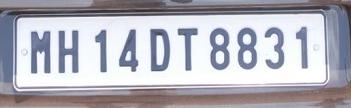1: (92, 26, 112, 73), (294, 25, 309, 68)
3: (261, 25, 284, 69)
4: (118, 27, 141, 72)
8: (234, 25, 259, 70), (207, 26, 230, 68)
D: (147, 27, 172, 72)
H: (56, 29, 82, 73)
M: (26, 29, 53, 73)
T: (176, 26, 199, 71)
